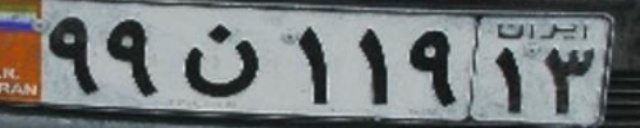1: (356, 26, 391, 104), (298, 26, 331, 104), (490, 44, 526, 113)
3: (541, 45, 593, 115)
9: (46, 15, 99, 94), (107, 14, 158, 95), (406, 26, 457, 107)
non: (177, 20, 269, 98)
